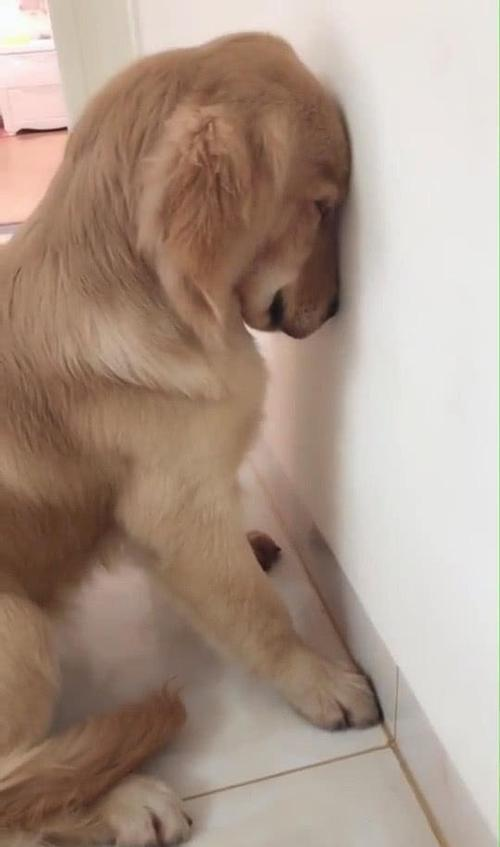dog: (4, 34, 366, 408)
